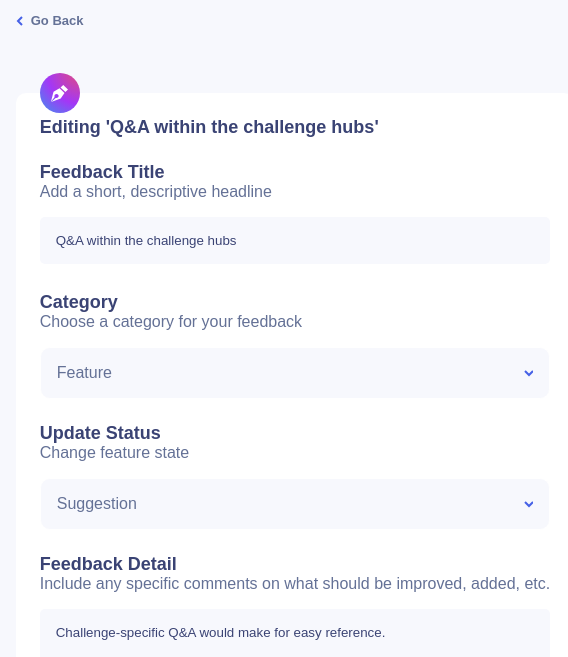
Test case: Edit Feedback page › should change content of title textarea
This screenshot has width=568, height=657.
Type " Test" into the text box with test id "title-textarea" at coordinates (295, 240), box [40,217,550,264]
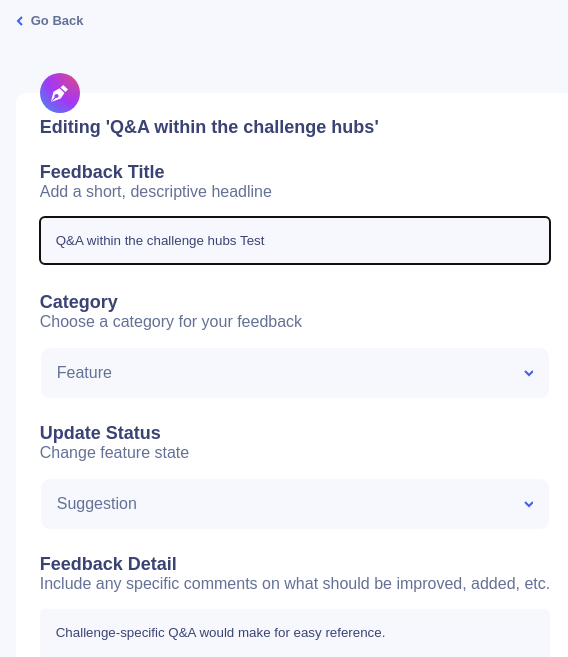
Expected: the text box with test id "title-textarea" holds "Q&A within the challenge hubs Test", [40,217,550,264]
